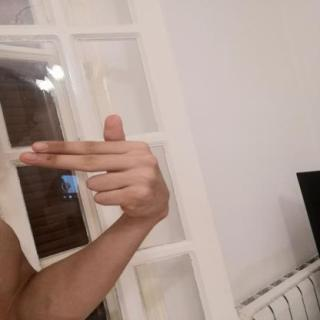GHAYN: (11, 108, 181, 227)
